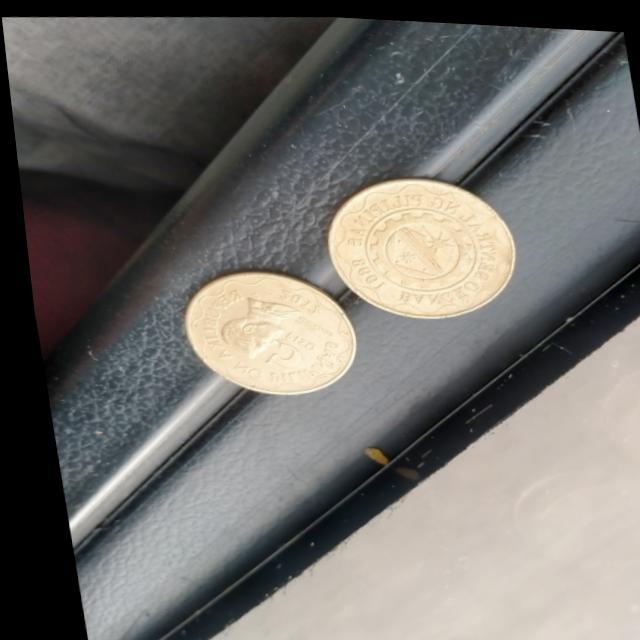5_Old_Back: (320, 168, 516, 320)
5_Old_Front: (241, 320, 313, 377)
